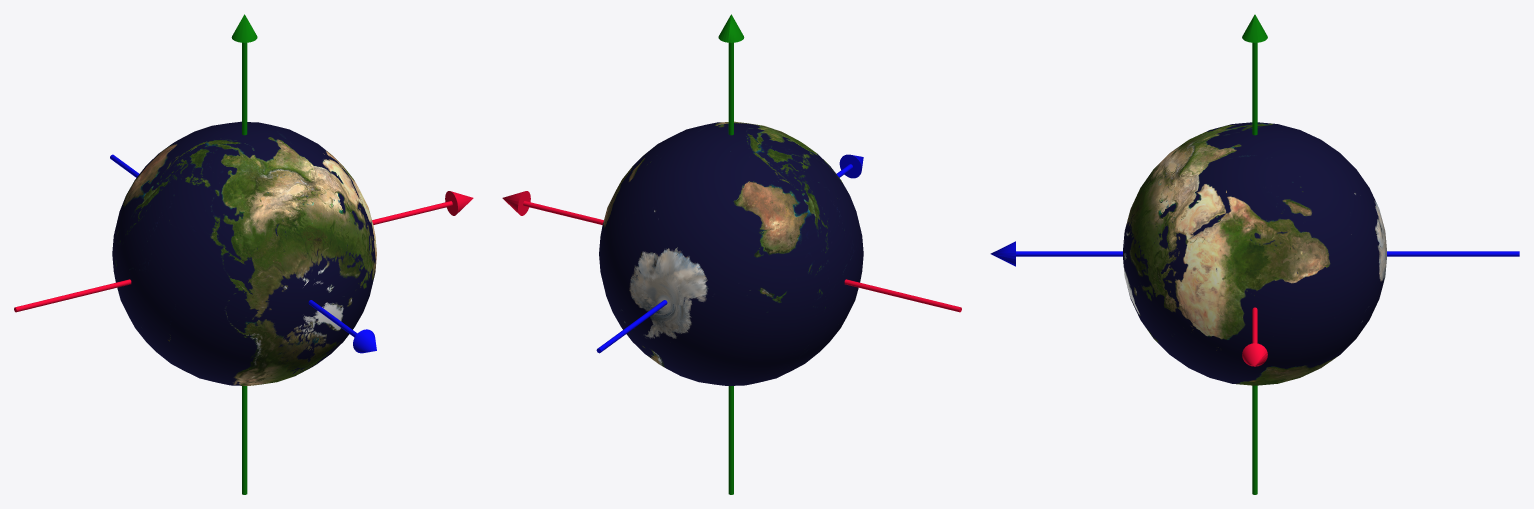
File: HBTSSEarthWAxes.obj
3 views of the same model, side by side, from view 1: azimuth 30°, elevation 25°; view 2: azimuth 150°, elevation 25°; view 3: azimuth 270°, elevation 25° (orthographic).
Parts seen in each view (by area): view 1: sphere, YShaft, XShaft, ZShaft; view 2: sphere, YShaft, XShaft, ZShaft; view 3: sphere, ZShaft, YShaft.
Part boxes in pixels (x1,y1,x2,y2): sphere: [112, 121, 376, 385]; YShaft: [242, 42, 247, 494]; XShaft: [14, 201, 452, 312]; ZShaft: [110, 154, 357, 337]; sphere: [599, 121, 863, 385]; YShaft: [728, 42, 733, 494]; XShaft: [523, 201, 961, 312]; ZShaft: [596, 164, 852, 353]; sphere: [1123, 122, 1386, 385]; ZShaft: [1016, 251, 1519, 256]; YShaft: [1252, 42, 1257, 494].
Size of the model in its own units: 2 by 2 by 2.
4 materials, 1 textured.
